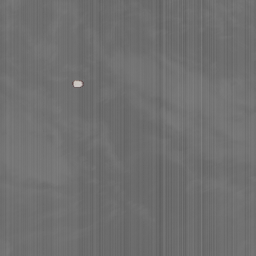Target: (70, 78, 86, 89)
